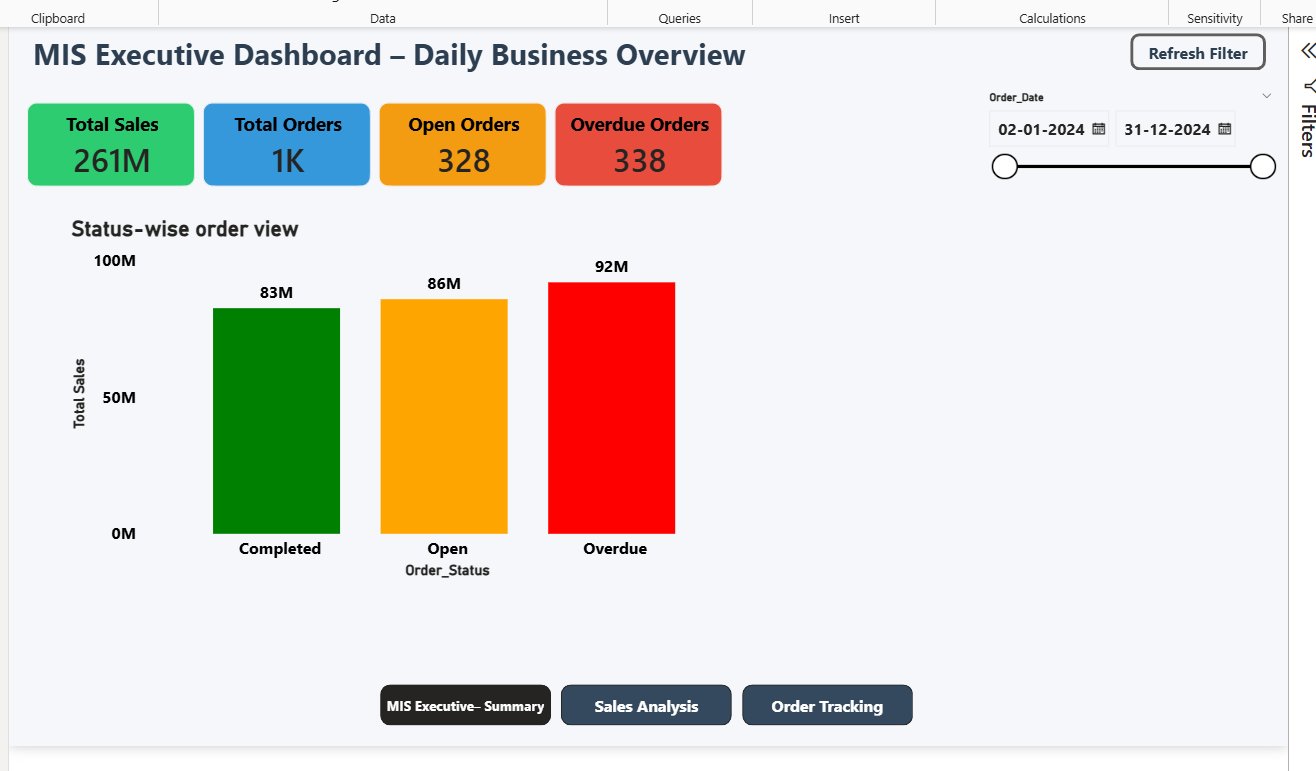

Layout of this report page (visuals, bound fields, positions):
{"tool":"powerbi","page":{"name":"MIS Executive– Summary","canvas":[1280,720],"ordinal":0},"visuals":[{"type":"shape","box":[0,0,1280.3,52.1],"z":0},{"type":"actionButton","box":[1122.5,6.9,135.8,37],"z":1000},{"type":"pageNavigator","box":[372.1,657.9,535.9,41.9],"z":2000},{"type":"cardVisual","fields":{"Data":["MIS_Sales_Data.Total Sales","MIS_Sales_Data.Total Orders","MIS_Sales_Data.Open Orders","MIS_Sales_Data.Overdue Orders"]},"box":[1.2,59.1,731.8,118.3],"z":3000},{"type":"clusteredColumnChart","title":"Status-wise order view","fields":{"Category":["MIS_Sales_Data.Order_Status"],"Y":["MIS_Sales_Data.Total Sales"]},"box":[57.9,188.5,688.7,368.4],"z":4000},{"type":"slicer","fields":{"Values":["MIS_Sales_Data.Order_Date"]},"box":[968.3,59.1,308,115.8],"z":5000}]}

Visuals, with their boxes on the page's 1280x720 design canvas (x1, y1, x2, y2). These are canvas units, not pixel positions in the 1316x771 screenshot, which may show the page scaled, cropped or inside an application window:
shape: region(0, 0, 1280, 52)
actionButton: region(1122, 7, 1258, 44)
pageNavigator: region(372, 658, 908, 700)
cardVisual - MIS_Sales_Data.Total Sales x MIS_Sales_Data.Total Orders: region(1, 59, 733, 177)
"Status-wise order view" clusteredColumnChart: region(58, 188, 747, 557)
slicer - MIS_Sales_Data.Order_Date: region(968, 59, 1276, 175)
